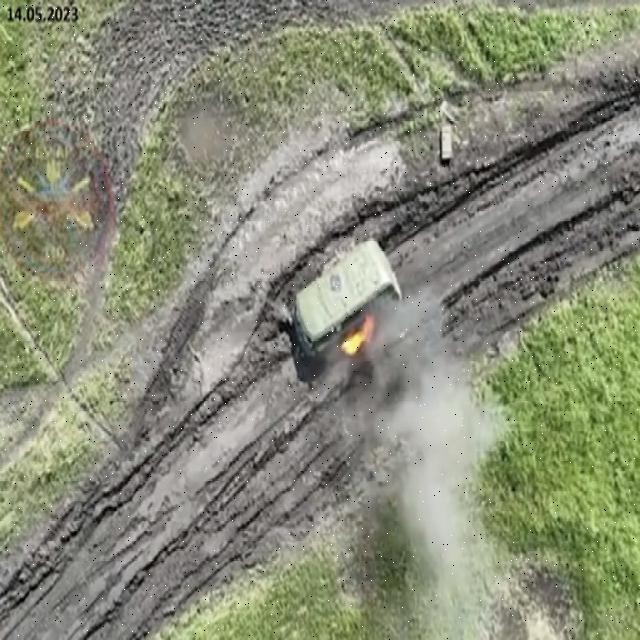CAR: (288, 227, 404, 369)
